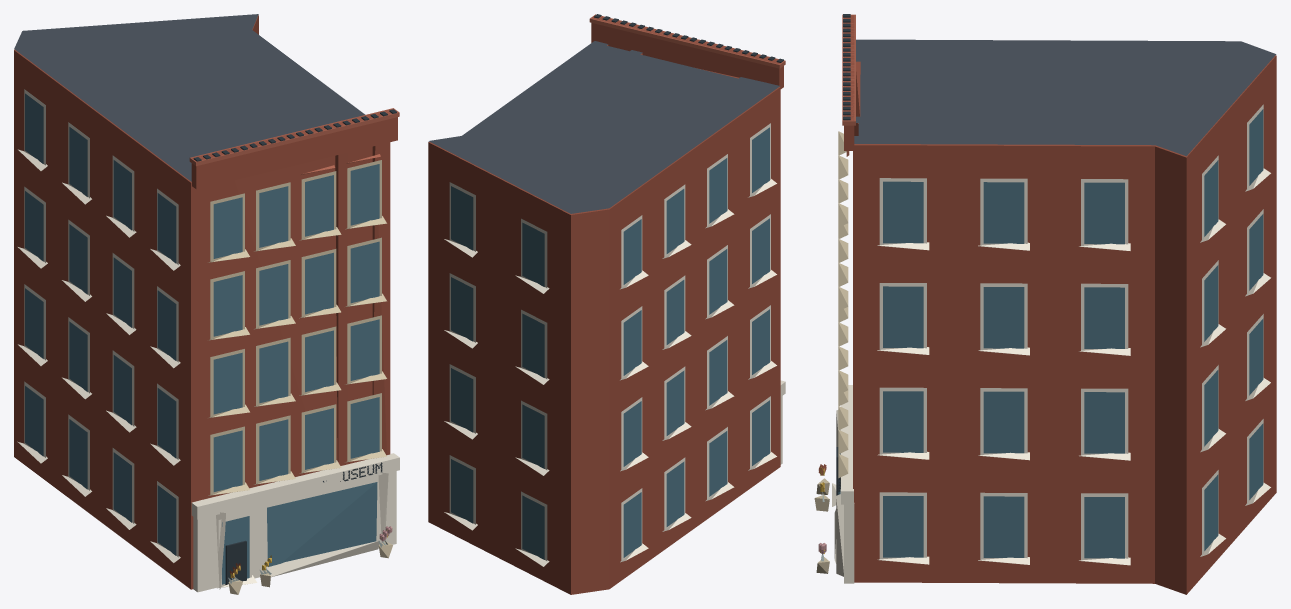
File: amsterdam-tulip-museum.lod1.glb
3 views of the same model, side by side, from view 1: azimuth 30°, elevation 25°; view 2: azimuth 150°, elevation 25°; view 3: azimuth 270°, elevation 25° (orthographic). The views are drawn at different scales.
Parts seen in each view (by area): view 1: amsterdam-tulip-museum; view 2: amsterdam-tulip-museum; view 3: amsterdam-tulip-museum.
Boxes of the visible parts, left/top/right/bottom form: amsterdam-tulip-museum: left=14, top=14, right=399, bottom=594; amsterdam-tulip-museum: left=428, top=14, right=785, bottom=594; amsterdam-tulip-museum: left=814, top=14, right=1276, bottom=594.
Bounding box in the file's own units: 9.86 × 17.75 × 15.99.
